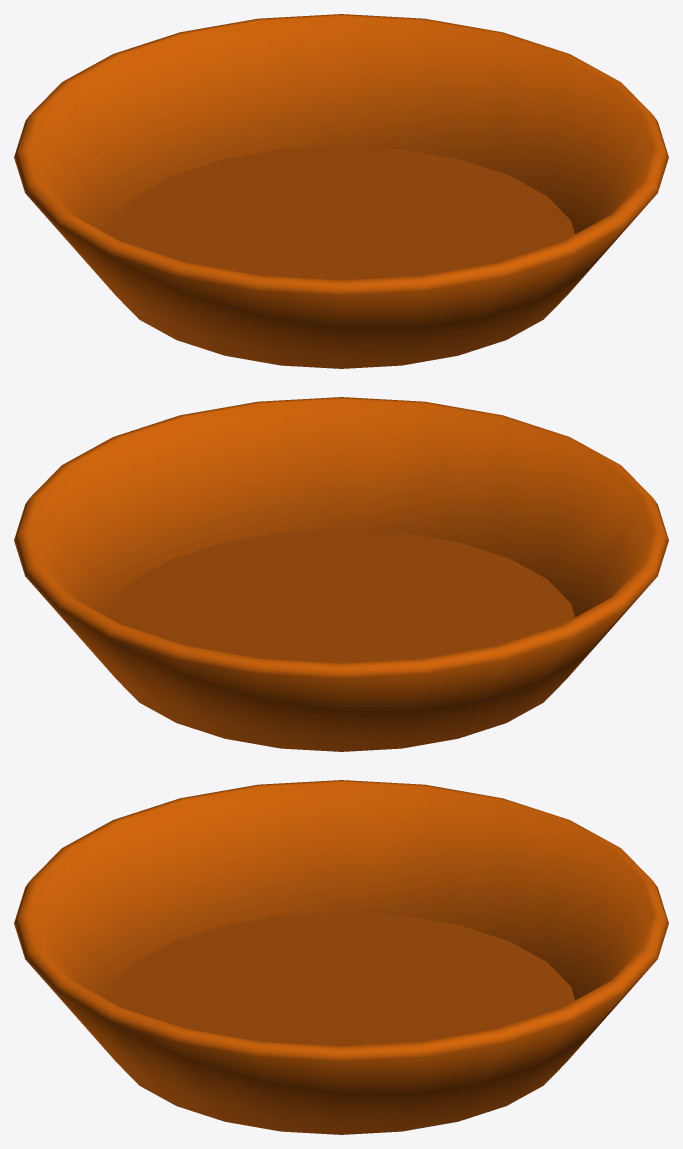
The model's file is orange_bowl.glb.
The picture shows the model from 3 angles, top to bottom: view 1: azimuth 30°, elevation 25°; view 2: azimuth 150°, elevation 25°; view 3: azimuth 270°, elevation 25°; orthographic projection.
Parts seen in each view (by area): view 1: SM_Dish_Bv2; view 2: SM_Dish_Bv2; view 3: SM_Dish_Bv2.
Boxes of the visible parts, box(x1,y1,x2,y2) form: SM_Dish_Bv2: box(14, 14, 668, 368); SM_Dish_Bv2: box(14, 397, 668, 751); SM_Dish_Bv2: box(14, 780, 668, 1134).
Size of the model in its own units: 0.6574 by 0.1349 by 0.6574.
1 material, 1 textured.
